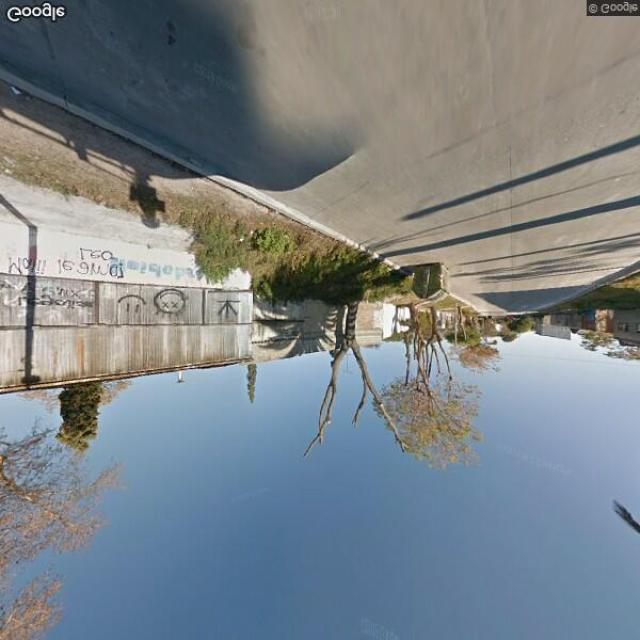garbage container: (409, 255, 459, 308)
